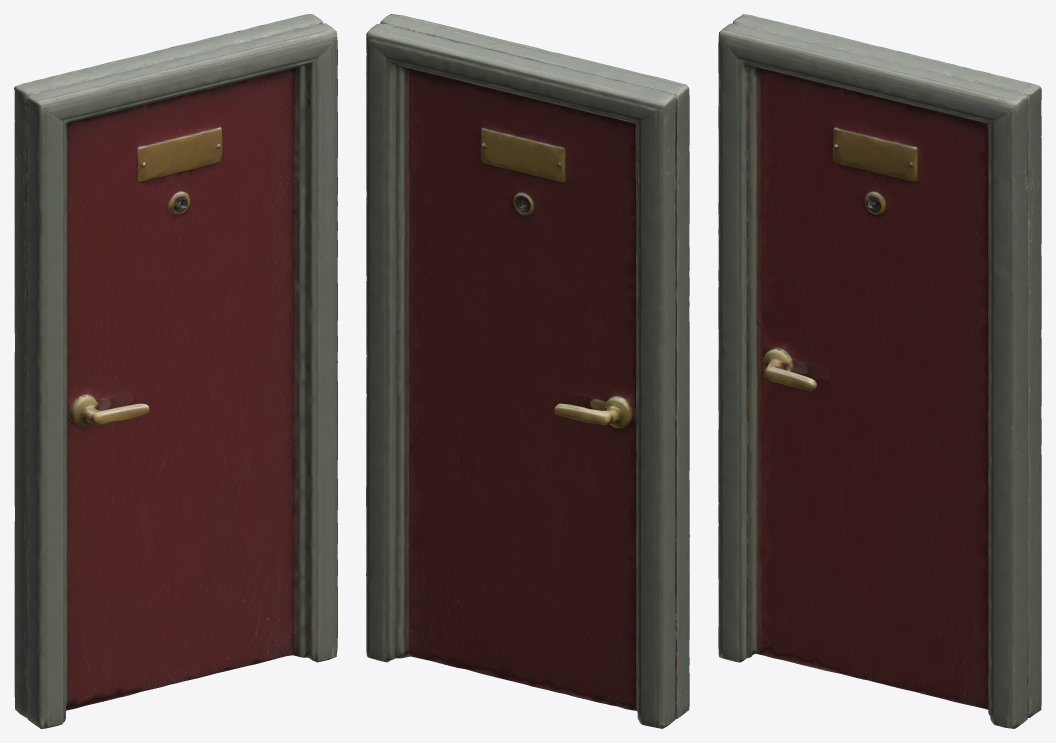
File: VAR_FloralCorridor_Door.fbx
The picture shows the model from 3 angles, left to right: view 1: azimuth 30°, elevation 25°; view 2: azimuth 150°, elevation 25°; view 3: azimuth 330°, elevation 25°; orthographic projection.
Parts seen in each view (by area): view 1: texture_mapping; view 2: texture_mapping; view 3: texture_mapping.
Boxes of the visible parts, bbox=[...] form: texture_mapping: bbox=[14, 14, 337, 728]; texture_mapping: bbox=[366, 14, 689, 728]; texture_mapping: bbox=[718, 14, 1041, 728].
Size of the model in its own units: 0.4997 by 0.1199 by 0.9994.
Materials: 1 (1 with a texture image).
